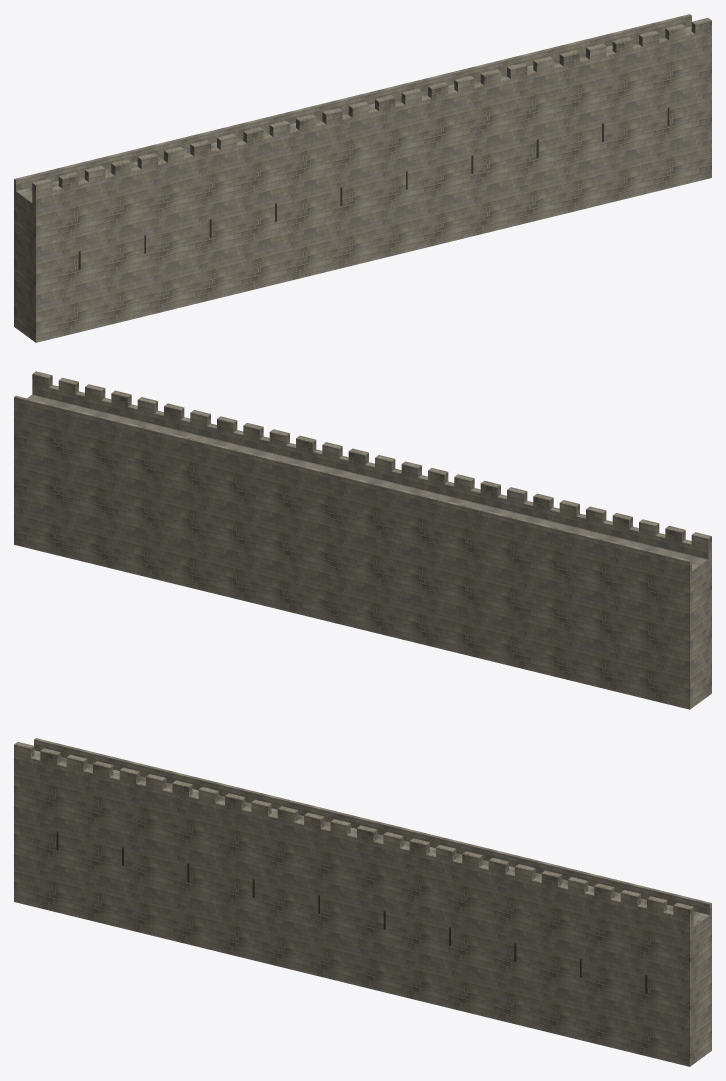
File: fort-wall-62.fort-v2.lod0.glb
3 renders of one model, top to bottom at view 1: azimuth 30°, elevation 25°; view 2: azimuth 150°, elevation 25°; view 3: azimuth 330°, elevation 25°, orthographic.
Visible parts, largest first — view 1: fort-wall-62; view 2: fort-wall-62; view 3: fort-wall-62.
Boxes of the visible parts, left/top/right/bottom form: fort-wall-62: left=14, top=14, right=711, bottom=342; fort-wall-62: left=14, top=371, right=711, bottom=709; fort-wall-62: left=14, top=738, right=711, bottom=1066.
Bounding box in the file's own units: 62 × 13.8 × 3.52.
Materials: 3 (2 with a texture image).
